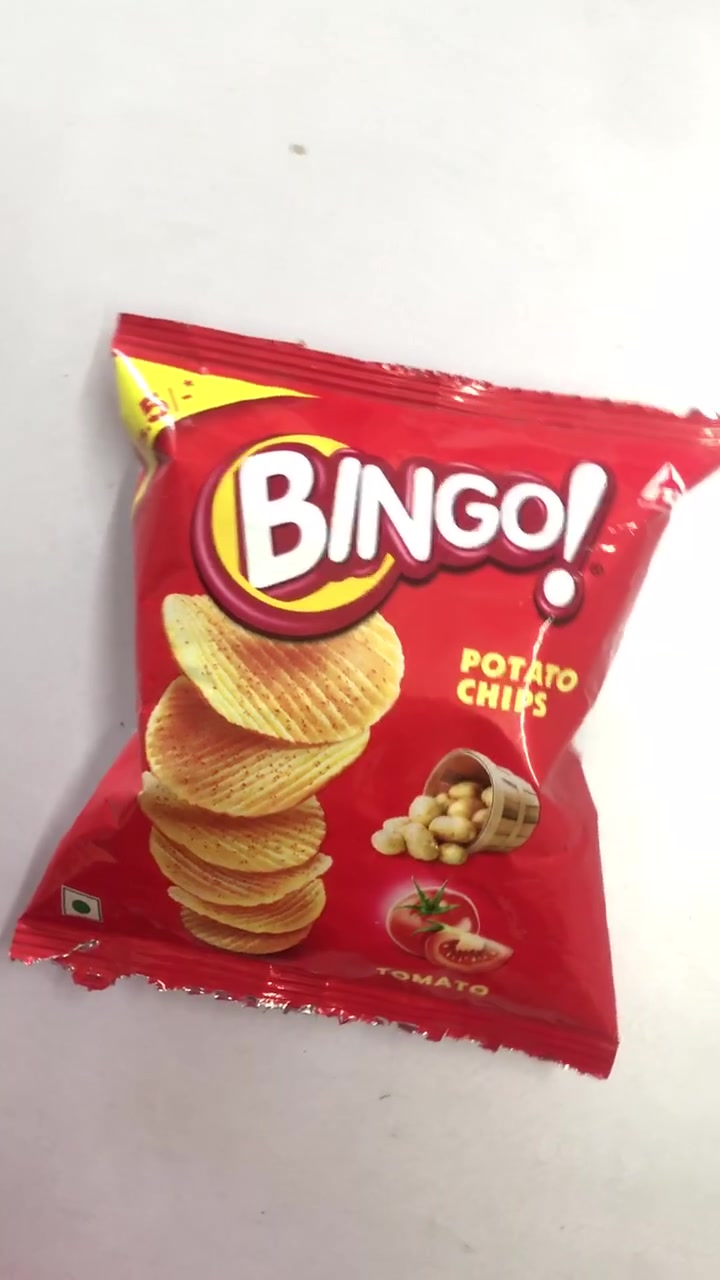Bingo: (28, 318, 720, 1069)
